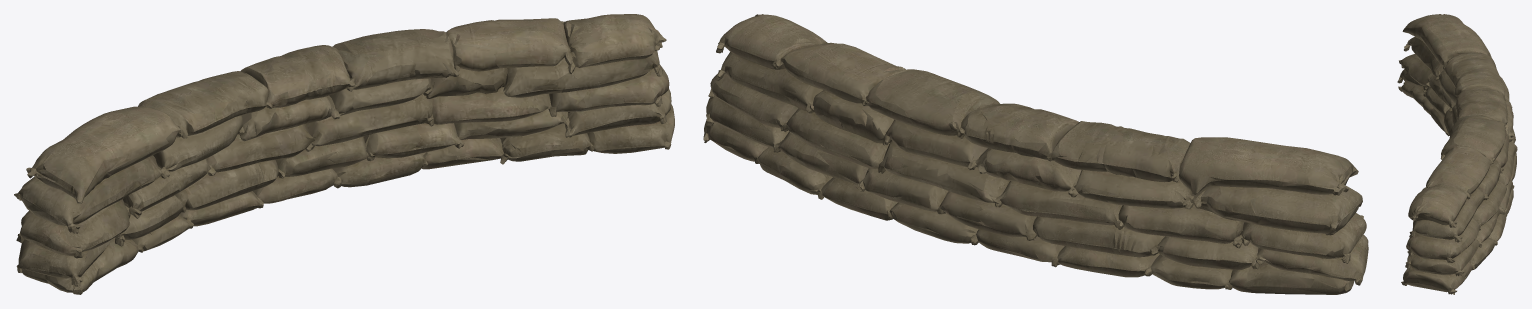
The picture shows the model from 3 angles, left to right: view 1: azimuth 30°, elevation 25°; view 2: azimuth 150°, elevation 25°; view 3: azimuth 270°, elevation 25°; orthographic projection. The views are drawn at different scales.
Visible parts, largest first — view 1: Mesh_0; view 2: Mesh_0; view 3: Mesh_0.
Part boxes in pixels (<box>): Mesh_0: <box>14,14,674,294</box>; Mesh_0: <box>703,14,1368,294</box>; Mesh_0: <box>1397,14,1517,294</box>.
Bounding box in the file's own units: 1.9 × 0.3574 × 0.4503.
1 material, 1 textured.
